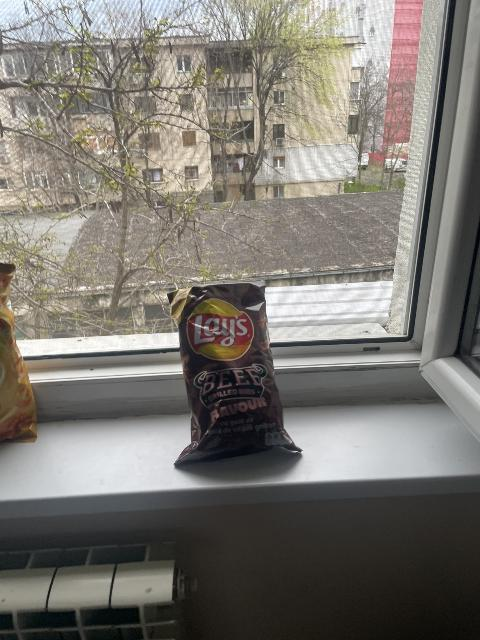Chio Hula Hoops Cheese 70g: (0, 267, 38, 440)
Lays Beef Grilled Ribs 125g: (166, 283, 304, 462)
